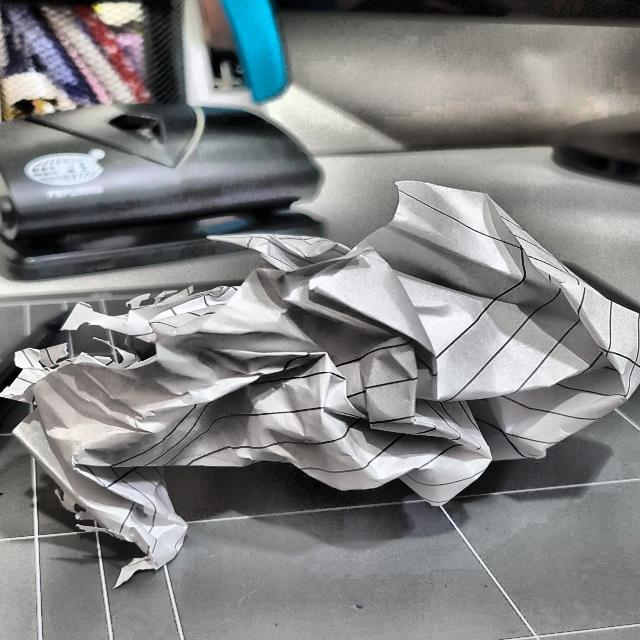paper: (15, 170, 640, 564)
